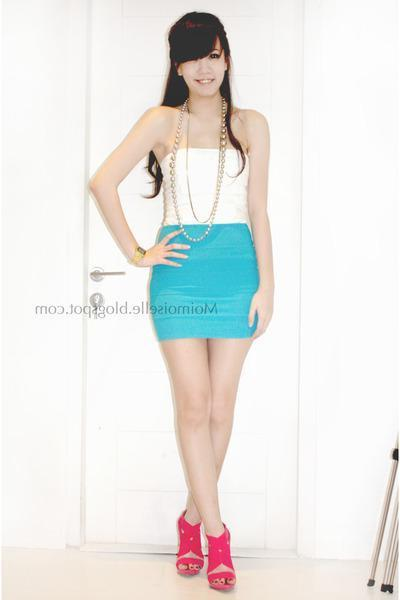skirt: (147, 217, 272, 345)
vest: (153, 147, 253, 232)
